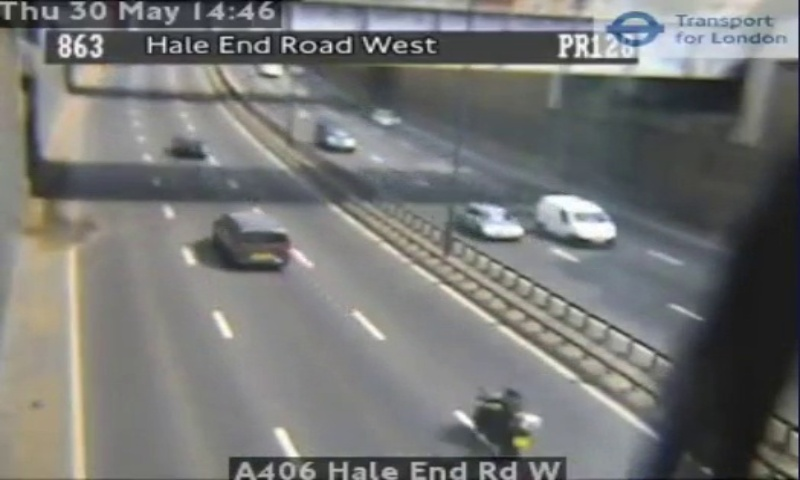motorcycle: (473, 387, 543, 455)
van: (212, 213, 291, 267)
